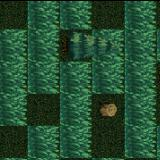Obstacle: (60, 28, 92, 61), (92, 94, 124, 125)
Slow: (125, 0, 156, 157), (59, 60, 92, 157), (28, 0, 60, 93), (0, 28, 28, 124), (92, 28, 124, 93), (27, 125, 59, 160), (60, 0, 92, 28)
